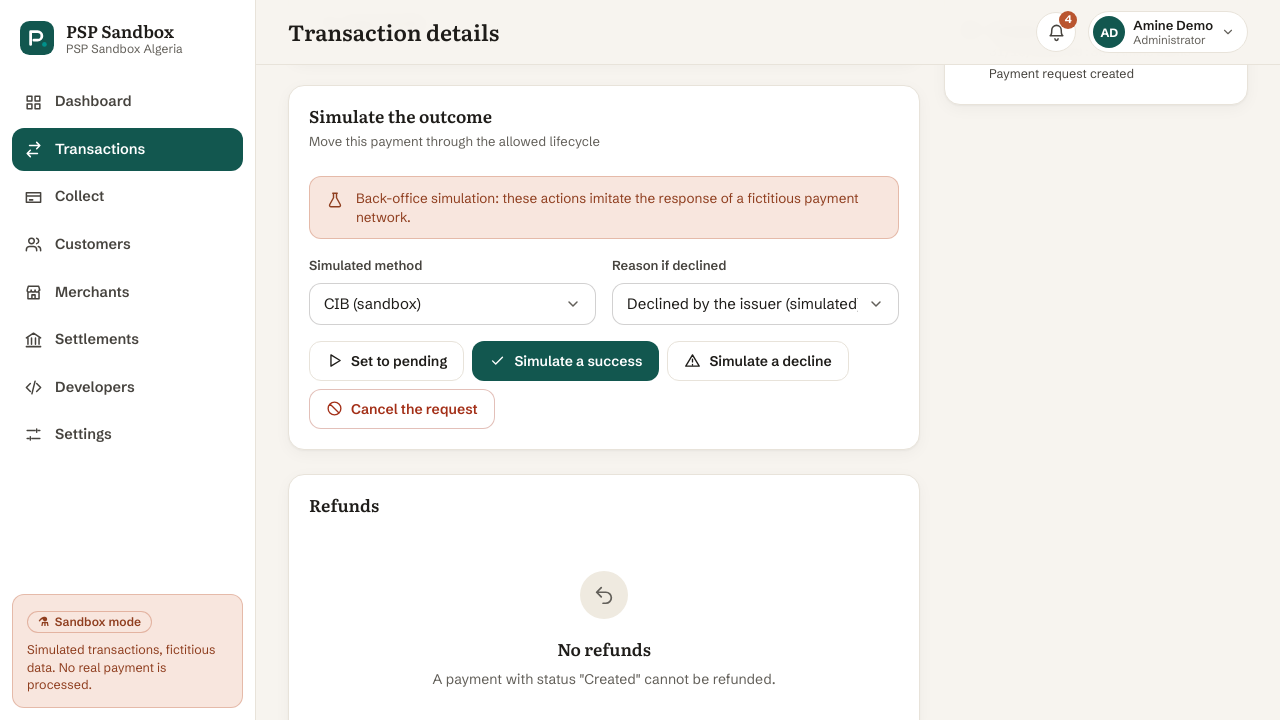
Scenario: keyboard accessibility › announces successes in a live region (role=status)
The image size is (1280, 720).
(page scrolled)
Click the button "Simulate a success" at (566, 361), box top-left (472, 341), bottom-right (659, 381)
(page scrolled)
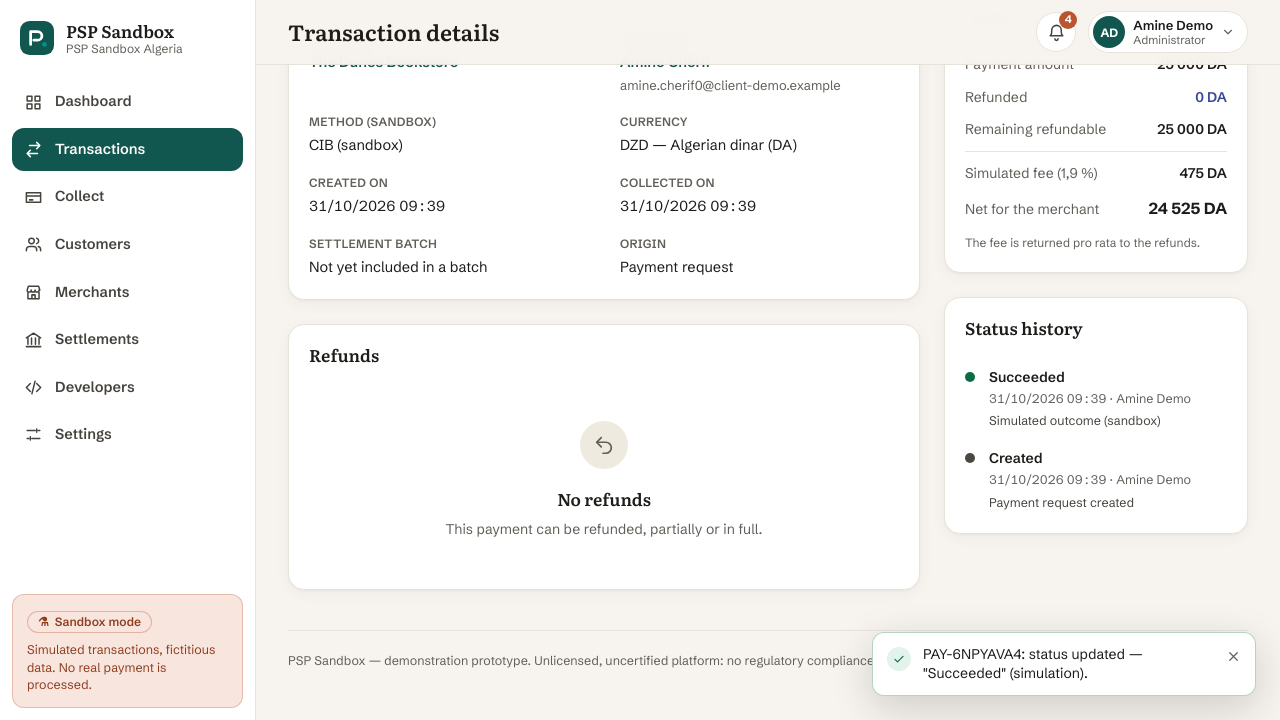
Check: the message shows "Succeeded", box top-left (923, 644), bottom-right (1143, 682)
